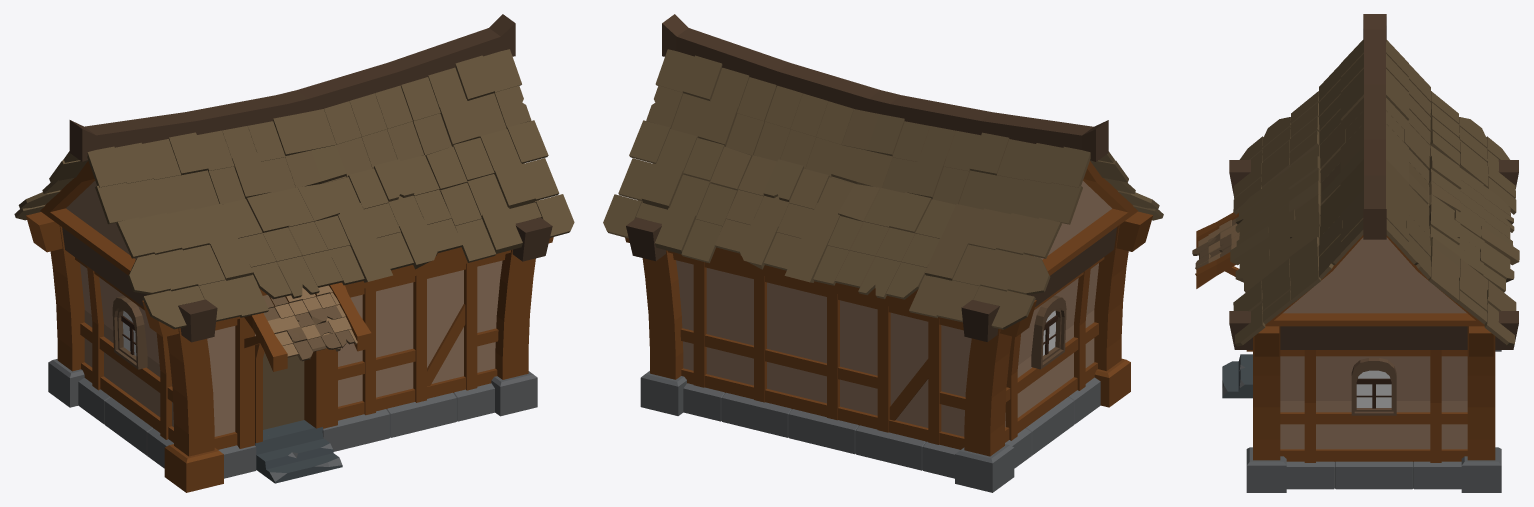
The model's file is SM_Hous_17_B.gltf.
3 renders of one model, left to right at view 1: azimuth 30°, elevation 25°; view 2: azimuth 150°, elevation 25°; view 3: azimuth 270°, elevation 25°, orthographic. The views are drawn at different scales.
Parts seen in each view (by area): view 1: SM_Hous_17_B; view 2: SM_Hous_17_B; view 3: SM_Hous_17_B.
Boxes of the visible parts, <box> form: SM_Hous_17_B: <box>14,14,574,492</box>; SM_Hous_17_B: <box>603,14,1163,492</box>; SM_Hous_17_B: <box>1192,14,1519,492</box>.
Size of the model in its own units: 8.55 by 6.18 by 6.07.
